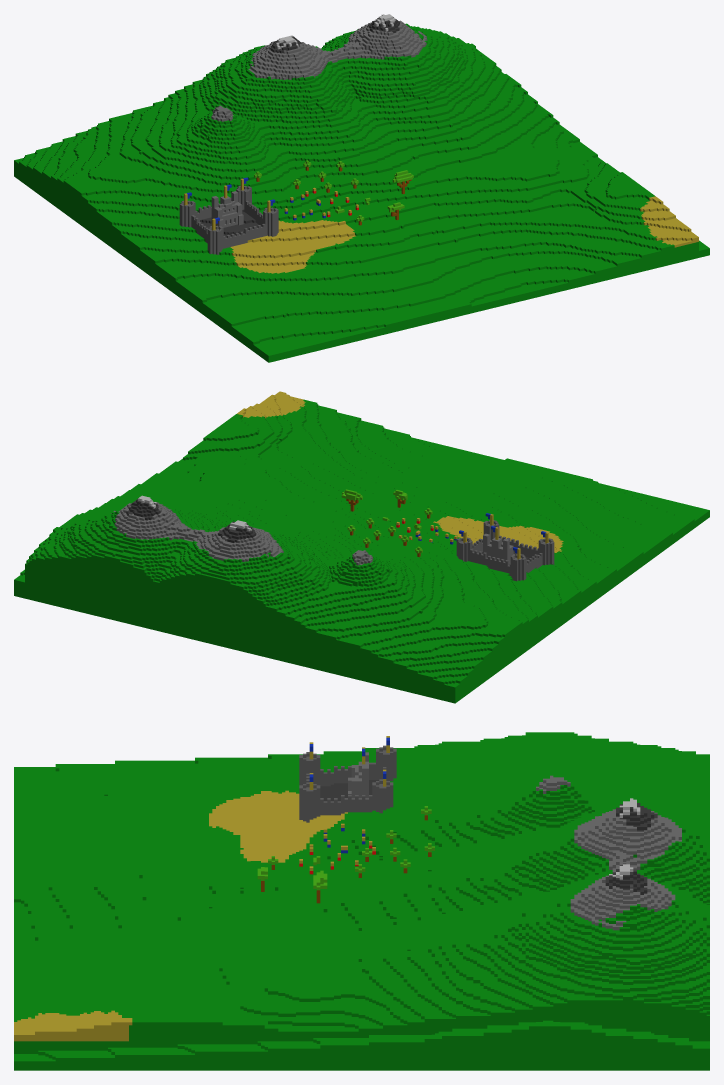
The model's file is MenuMap.obj.
3 views of the same model, one above another, from view 1: azimuth 30°, elevation 25°; view 2: azimuth 150°, elevation 25°; view 3: azimuth 270°, elevation 25° (orthographic). The views are drawn at different scales.
Size of the model in its own units: 20 by 4.3 by 20.
1 material, 1 textured.
